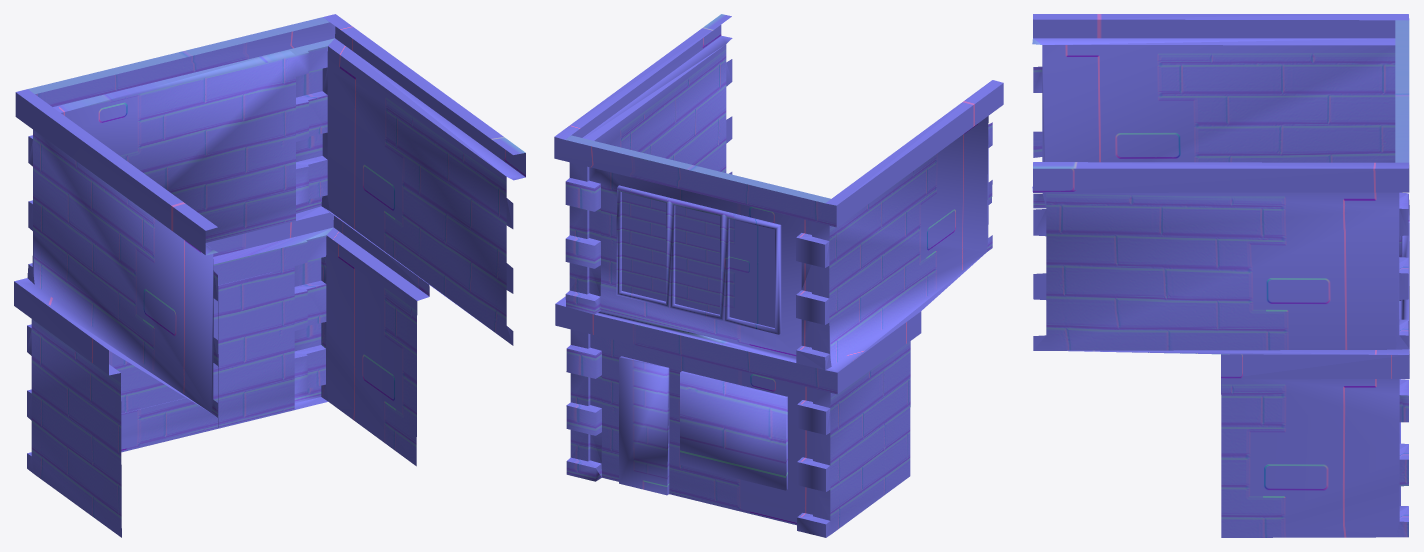
The model's file is houselowerfull.fbx.
The picture shows the model from 3 angles, left to right: view 1: azimuth 30°, elevation 25°; view 2: azimuth 150°, elevation 25°; view 3: azimuth 270°, elevation 25°; orthographic projection. The views are drawn at different scales.
Parts seen in each view (by area): view 1: LowerHouse; view 2: LowerHouse; view 3: LowerHouse.
Part boxes in pixels (x1,y1,x2,y2): LowerHouse: [14, 14, 525, 537]; LowerHouse: [554, 14, 1003, 537]; LowerHouse: [1032, 14, 1409, 537].
Size of the model in its own units: 132 by 149 by 135.
